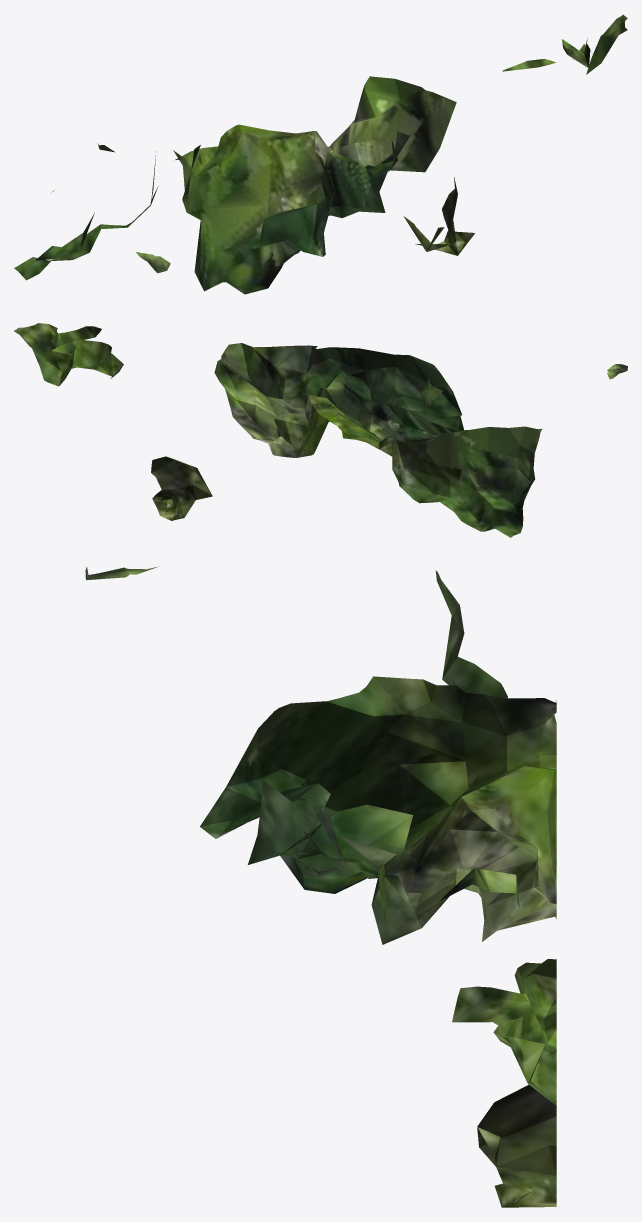
3 renders of one model, top to bottom at view 1: azimuth 30°, elevation 25°; view 2: azimuth 150°, elevation 25°; view 3: azimuth 270°, elevation 25°, orthographic. The views are drawn at different scales.
Bounding box in the file's own units: 24.61 × 7.19 × 10.11.
Materials: 1 (1 with a texture image).
